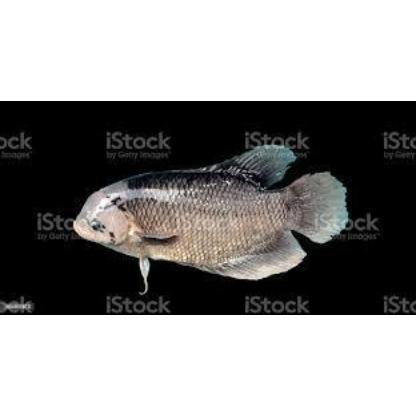gurame: (74, 146, 348, 276)
